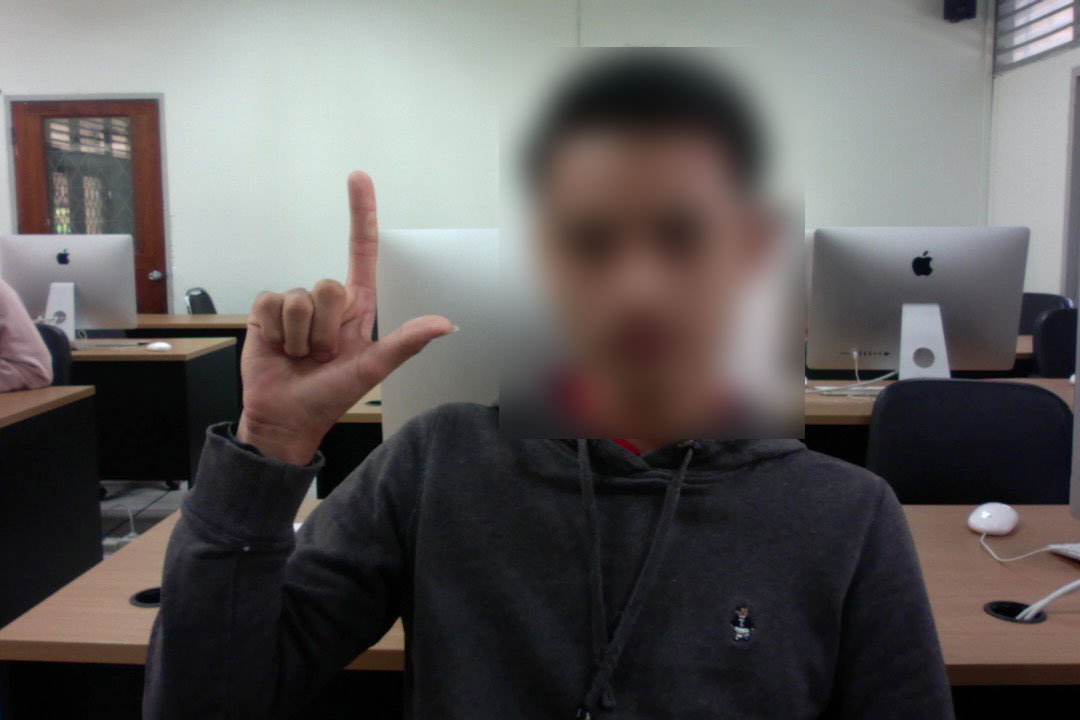lor: (229, 159, 473, 468)
